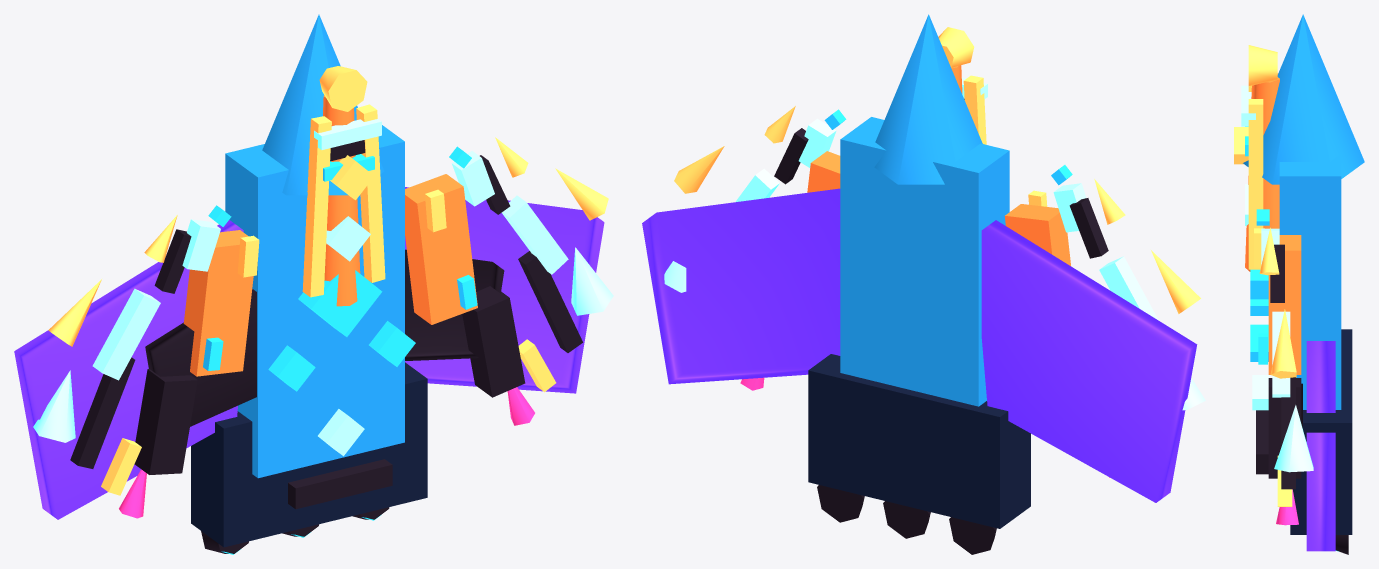
Rendered from boss-01.glb.
3 renders of one model, left to right at view 1: azimuth 30°, elevation 25°; view 2: azimuth 150°, elevation 25°; view 3: azimuth 270°, elevation 25°, orthographic. The views are drawn at different scales.
Parts seen in each view (by area): view 1: central_command_hull, left_broad_wing, rear_reactor_block, right_broad_wing, right_cannon_pod, left_cannon_pod, front_knife_nose, left_inner_armor_plate, left_ammo_heat_bank, right_ammo_heat_bank, right_inner_armor_plate, left_rail_guard (+27 smaller); view 2: left_broad_wing, central_command_hull, right_broad_wing, rear_reactor_block, front_knife_nose, left_cannon_pod, left_flower_bloom_vane, left_scatter_socket_guard, engine_nozzle_0.00, engine_nozzle_0.42, engine_nozzle_-0.42, right_cannon_pod (+8 smaller); view 3: central_command_hull, front_knife_nose, right_broad_wing, rear_reactor_block, right_cannon_pod, right_rail_guard, center_rail_cannon, right_wingtip_emitter, right_ammo_heat_bank, center_cannon_muzzle_glow, right_bloom_crown_tip, right_flower_bloom_vane (+17 smaller).
Boxes of the visible parts, <box> form: central_command_hull: <box>225,125,404,478</box>; left_broad_wing: <box>14,220,243,519</box>; rear_reactor_block: <box>191,362,427,547</box>; right_broad_wing: <box>405,187,604,393</box>; right_cannon_pod: <box>405,174,477,324</box>; left_cannon_pod: <box>183,230,253,376</box>; front_knife_nose: <box>262,14,384,195</box>; left_inner_armor_plate: <box>145,289,256,426</box>; left_ammo_heat_bank: <box>134,369,197,474</box>; right_ammo_heat_bank: <box>462,286,525,397</box>; right_inner_armor_plate: <box>405,249,504,360</box>; left_rail_guard: <box>302,116,331,297</box>; left_broad_wing: <box>981,220,1197,502</box>; central_command_hull: <box>840,117,1009,406</box>; right_broad_wing: <box>642,188,840,384</box>; rear_reactor_block: <box>808,354,1030,528</box>; front_knife_nose: <box>874,14,982,184</box>; left_cannon_pod: <box>1004,204,1070,265</box>; left_flower_bloom_vane: <box>1099,256,1158,320</box>; left_scatter_socket_guard: <box>1069,198,1108,258</box>; engine_nozzle_0.00: <box>883,501,930,538</box>; engine_nozzle_0.42: <box>817,485,864,522</box>; engine_nozzle_-0.42: <box>949,517,996,554</box>; right_cannon_pod: <box>807,151,840,192</box>; central_command_hull: <box>1279,154,1341,409</box>; front_knife_nose: <box>1243,14,1364,184</box>; right_broad_wing: <box>1306,341,1335,551</box>; rear_reactor_block: <box>1290,329,1352,534</box>; right_cannon_pod: <box>1268,235,1301,374</box>; right_rail_guard: <box>1248,99,1263,269</box>; center_rail_cannon: <box>1245,73,1279,271</box>; right_wingtip_emitter: <box>1274,405,1313,472</box>; right_ammo_heat_bank: <box>1268,378,1301,478</box>; center_cannon_muzzle_glow: <box>1248,45,1277,86</box>; right_bloom_crown_tip: <box>1270,309,1296,378</box>; right_flower_bloom_vane: <box>1272,311,1290,397</box>.
Size of the model in its own units: 3.44 by 3.09 by 0.72.
